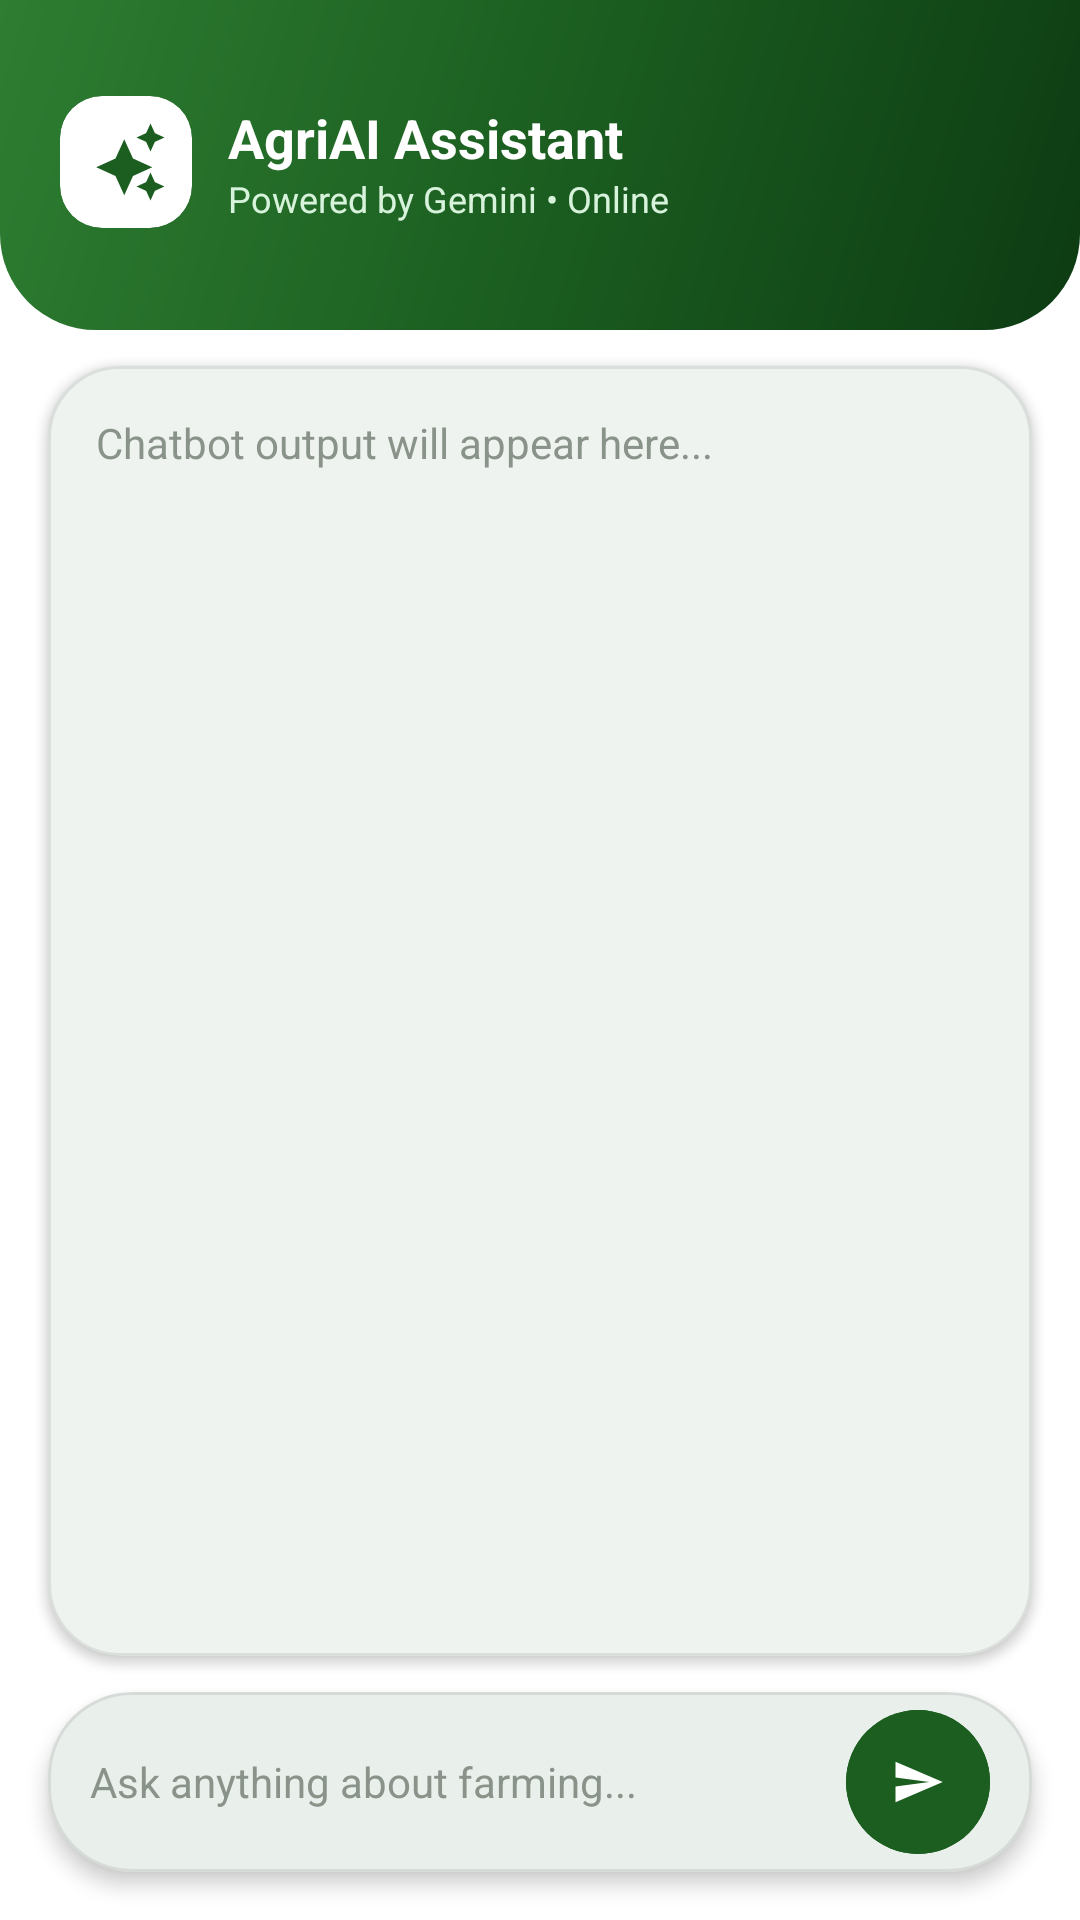

Icons on this 1080 × 1920 Android screen, each with the point to tap as (x,y):
ai sparkle: (126,162)
send: (918,1782)
